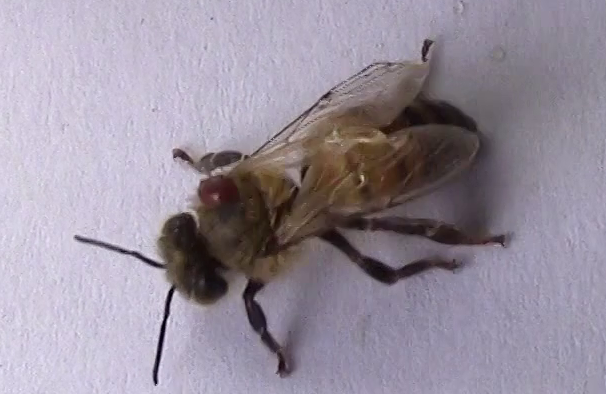Varroa destructor: (199, 174, 245, 211)
